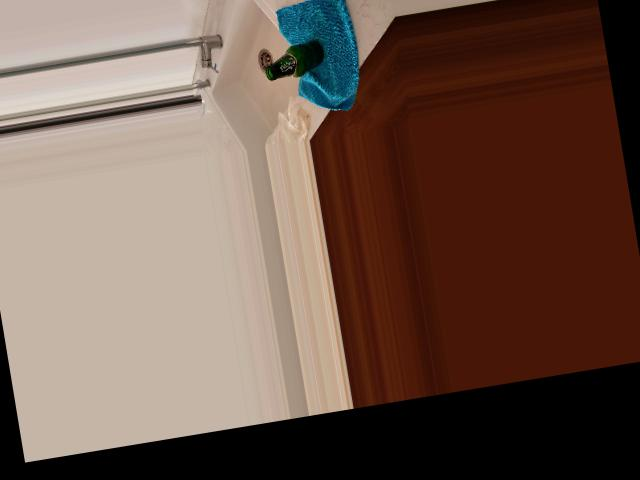beer: (262, 39, 328, 82)
